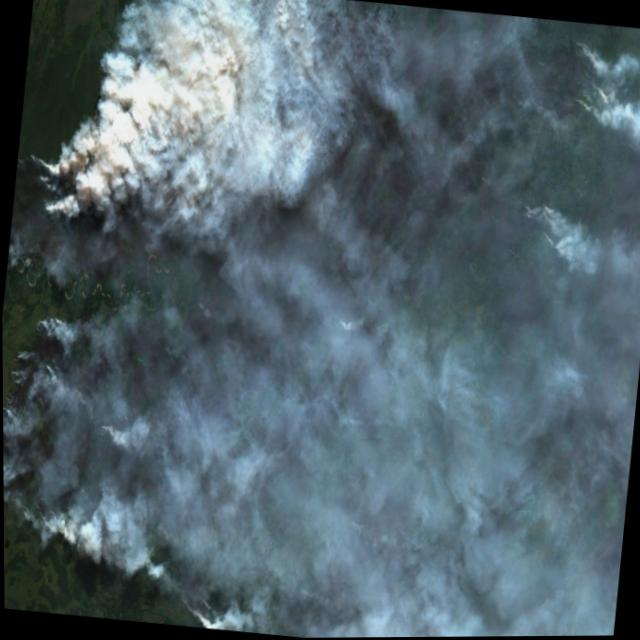fire: (2, 302, 54, 403), (23, 144, 65, 230), (566, 41, 606, 117), (519, 187, 565, 251), (17, 499, 79, 537), (169, 588, 217, 616), (335, 301, 365, 336), (3, 450, 15, 508), (88, 413, 112, 441), (193, 295, 208, 326)
